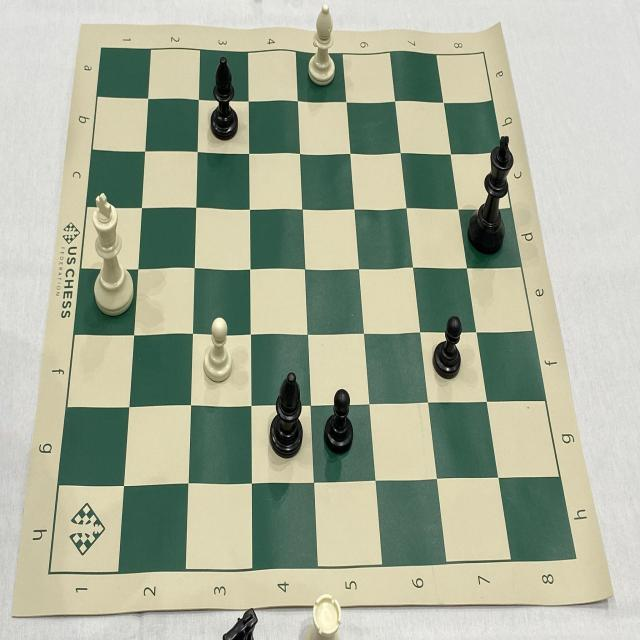black-bishop: (267, 363, 307, 469), (207, 51, 243, 145)
black-king: (462, 125, 522, 265)
black-pawn: (318, 382, 358, 458), (429, 309, 466, 389)
white-bishop: (302, 1, 344, 92)
white-king: (82, 187, 142, 321)
white-pawn: (198, 309, 236, 389)
